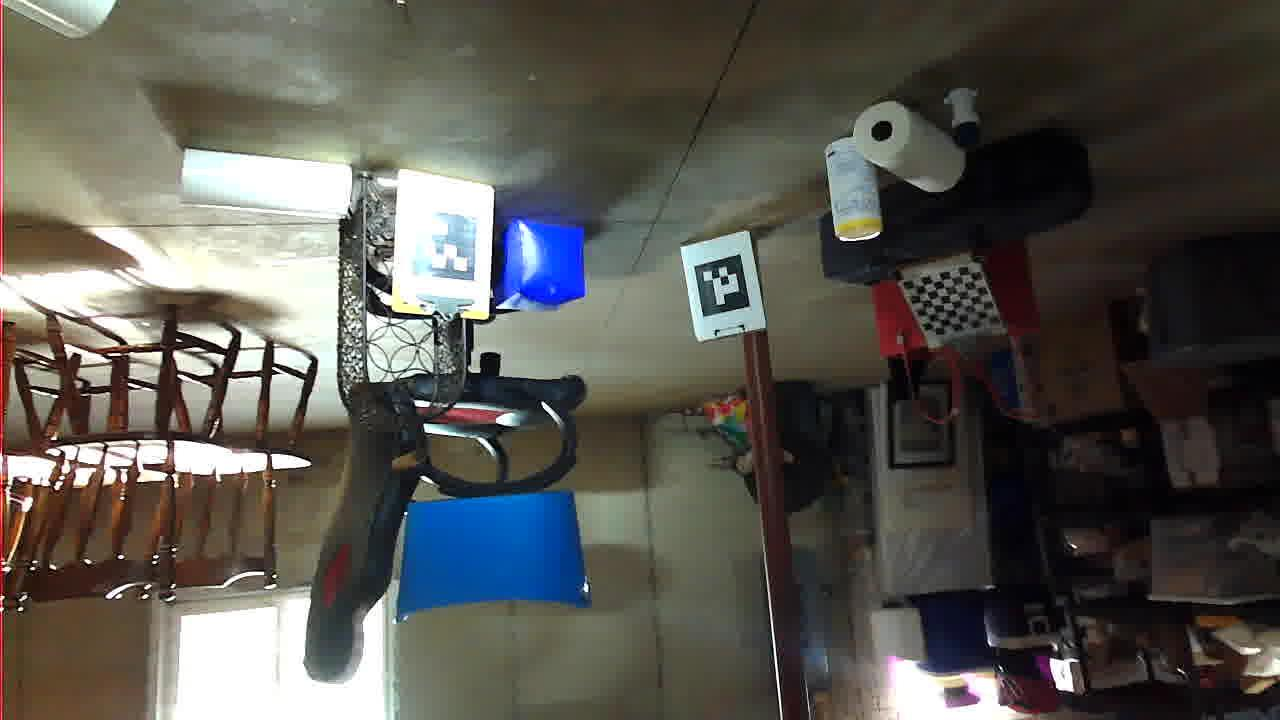coral: (926, 501, 1098, 573), (1163, 681, 1280, 720)
